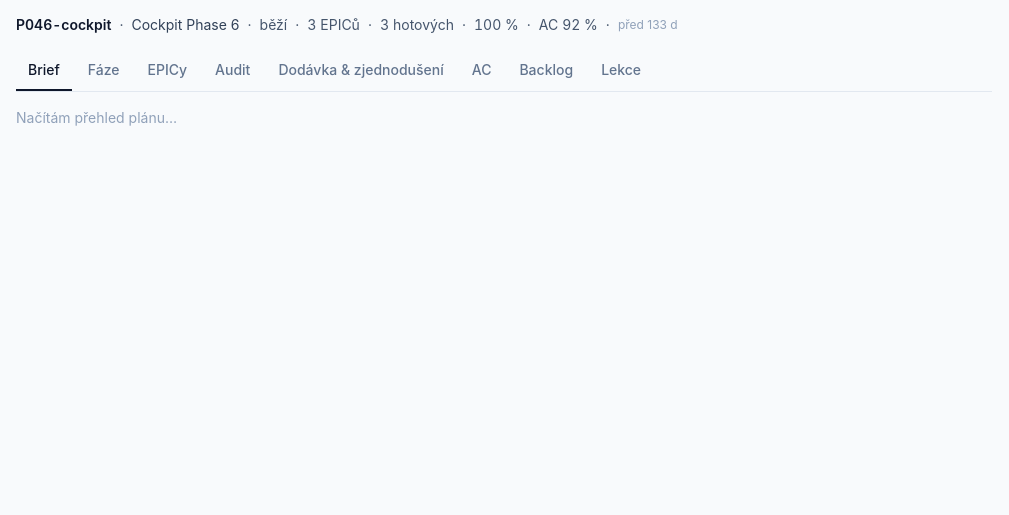
ScreenPlan — plan detail tabs › Dodávka tab renders Reporter + Simplifier; a missing test-evidence file flags exists:false
The image size is (1009, 515).
Expected: the element that starts with "P046-cockpit" is shown, [16,16,678,33]
Click the tab "Dodávka & zjednodušení".
click(361, 71)  # box [266,51,456,91]
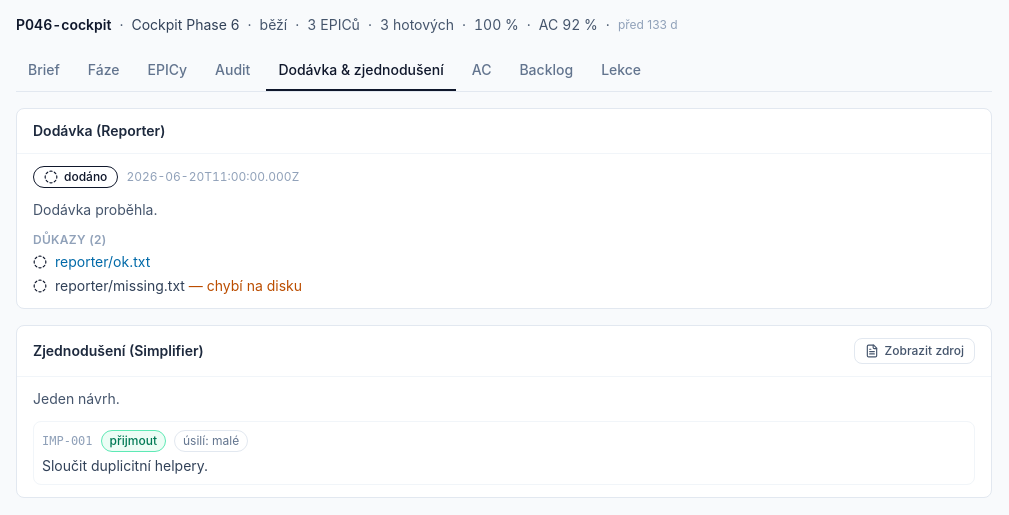
Expected: the element that starts with "Důkazy (" is shown, [33,232,302,294]
Expected: the list "IMP-001 přijmout úsilí: malé Sloučit duplicitní helpery." is shown, [33,421,975,485]
Expected: the list item "reporter/missing.txt — chybí na disku" is shown, [33,277,302,294]
